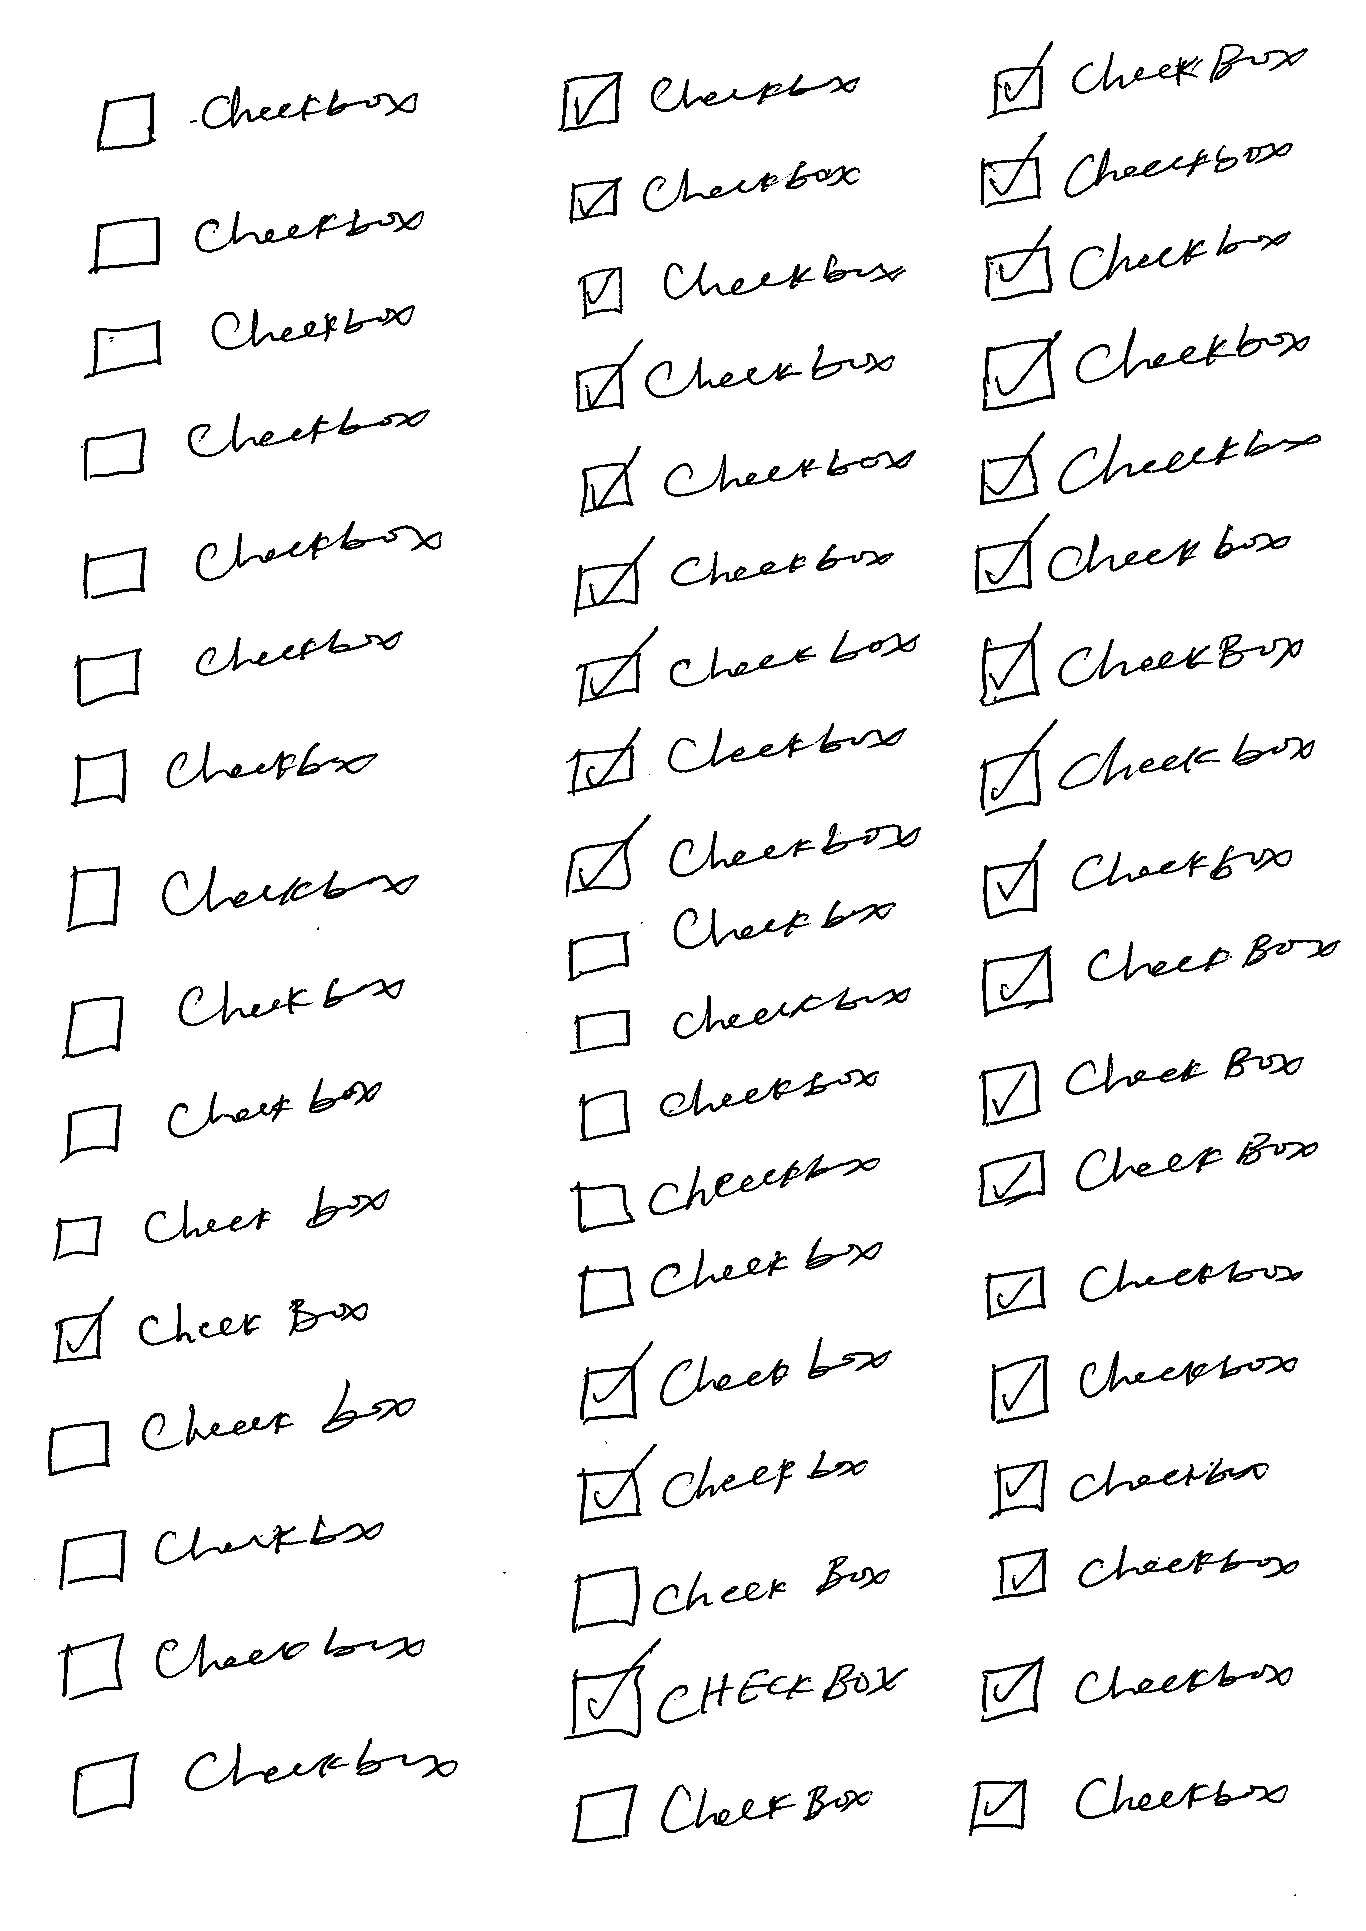Check Box: (569, 1640, 912, 1739), (69, 1734, 461, 1820), (47, 1385, 412, 1476), (979, 929, 1341, 1019), (52, 1184, 387, 1275), (977, 727, 1317, 816), (577, 621, 922, 707), (62, 971, 405, 1057), (980, 325, 1308, 413), (81, 522, 446, 600), (979, 1042, 1305, 1128), (985, 35, 1307, 121), (976, 1130, 1322, 1209), (568, 896, 894, 980), (64, 1076, 386, 1161), (58, 1626, 427, 1699), (979, 835, 1295, 920), (74, 628, 401, 710), (577, 1340, 896, 1422), (565, 822, 922, 895), (81, 405, 432, 479), (574, 336, 897, 415), (58, 1511, 387, 1589), (980, 627, 1304, 705), (965, 1759, 1286, 1838), (577, 444, 917, 517), (574, 1153, 880, 1235), (568, 726, 909, 798), (979, 433, 1320, 506), (580, 1241, 887, 1320), (574, 537, 893, 612), (980, 1652, 1294, 1727), (67, 865, 421, 931), (574, 985, 912, 1054), (985, 226, 1297, 302), (580, 1446, 874, 1526), (580, 1065, 883, 1141), (989, 1348, 1298, 1424), (86, 305, 414, 376), (979, 135, 1294, 208), (95, 81, 421, 152), (574, 1552, 887, 1626), (577, 251, 908, 321), (973, 523, 1291, 594), (89, 206, 424, 271), (52, 1295, 371, 1363), (560, 64, 863, 132), (982, 1255, 1304, 1319), (69, 744, 381, 807), (571, 1782, 874, 1847), (569, 158, 857, 225), (996, 1544, 1301, 1603), (993, 1456, 1271, 1516)
